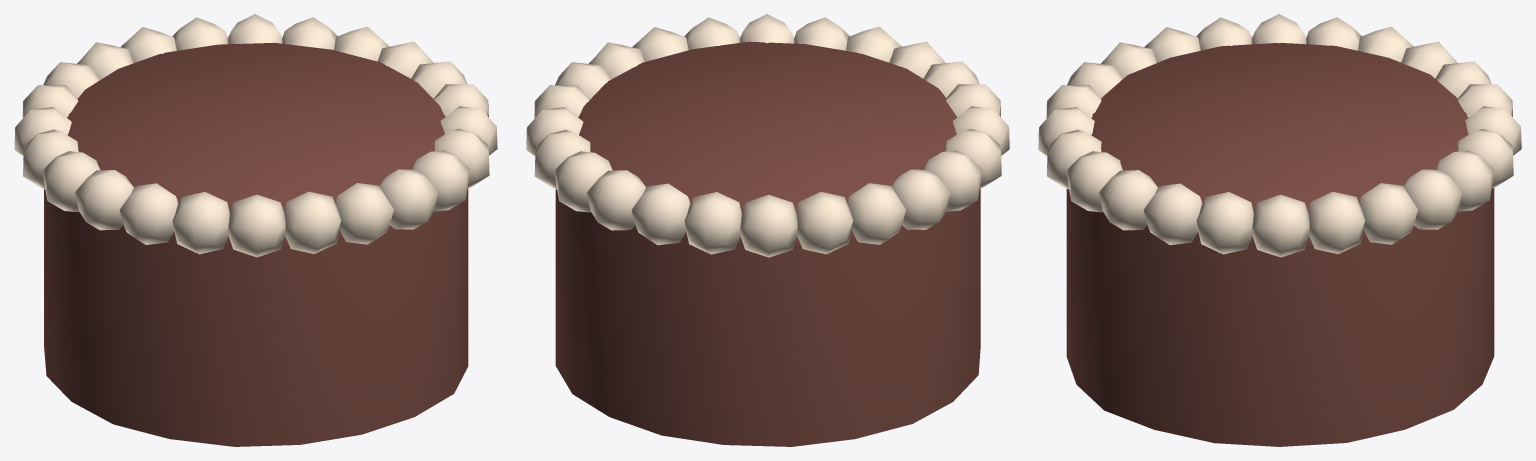
Rendered from SM_mod_power.fbx.
3 views of the same model, side by side, from view 1: azimuth 30°, elevation 25°; view 2: azimuth 150°, elevation 25°; view 3: azimuth 270°, elevation 25° (orthographic).
Visible parts, largest first — view 1: pCube26; view 2: pCube26; view 3: pCube26.
Boxes of the visible parts, <box> form: pCube26: <box>14,14,497,446</box>; pCube26: <box>526,14,1009,446</box>; pCube26: <box>1038,14,1521,446</box>.
Size of the model in its own units: 211 by 119 by 211.
1 material, 1 textured.
